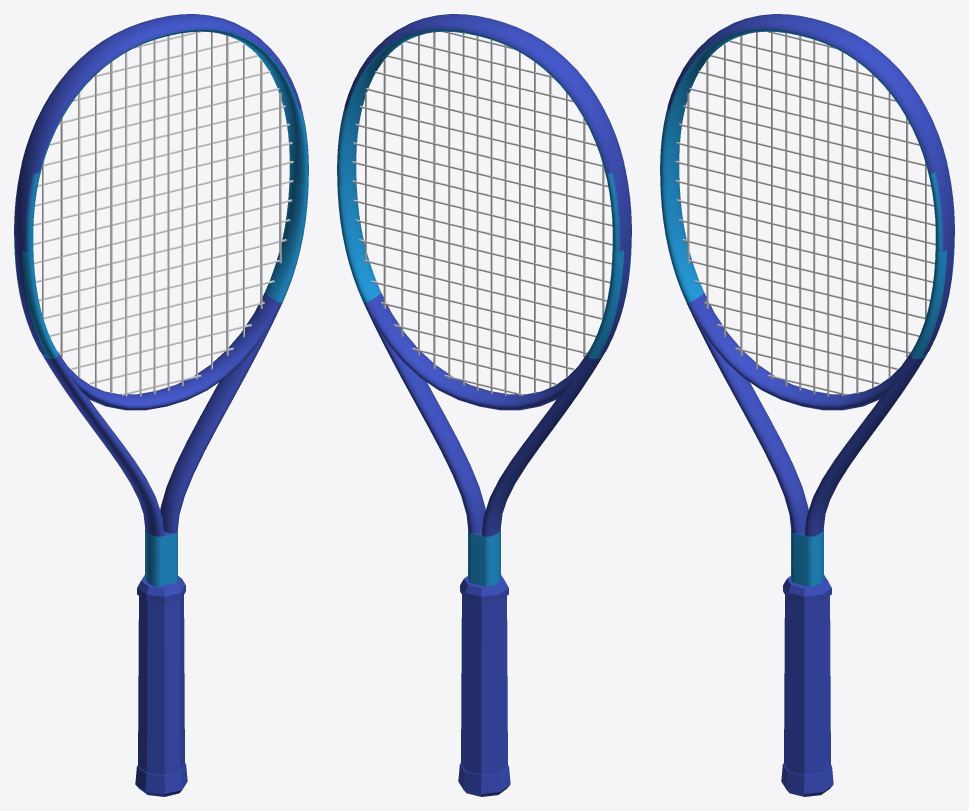
The model's file is prince-ripcord-100-265g-2025.glb.
3 views of the same model, side by side, from view 1: azimuth 30°, elevation 25°; view 2: azimuth 150°, elevation 25°; view 3: azimuth 330°, elevation 25° (orthographic).
Visible parts, largest first — view 1: frame, strings_mains, strings_crosses, grip, bumper, grommets, butt_cap, collar; view 2: frame, strings_mains, strings_crosses, grip, bumper, grommets, butt_cap, collar; view 3: frame, strings_mains, strings_crosses, grip, bumper, grommets, butt_cap, collar.
Part boxes in pixels (<box>): frame: <box>14,29,308,586</box>; strings_mains: <box>42,32,281,396</box>; strings_crosses: <box>33,31,293,395</box>; grip: <box>138,595,184,774</box>; bumper: <box>21,14,301,173</box>; grommets: <box>15,166,45,355</box>; butt_cap: <box>135,763,187,796</box>; collar: <box>137,575,185,603</box>; frame: <box>337,29,631,586</box>; strings_mains: <box>365,32,604,396</box>; strings_crosses: <box>352,31,612,395</box>; grip: <box>461,595,507,774</box>; bumper: <box>344,14,624,173</box>; grommets: <box>600,166,630,355</box>; butt_cap: <box>458,763,510,796</box>; collar: <box>460,575,508,603</box>; frame: <box>660,29,954,586</box>; strings_mains: <box>687,32,926,396</box>; strings_crosses: <box>675,31,935,395</box>; grip: <box>784,595,830,774</box>; bumper: <box>667,14,947,173</box>; grommets: <box>923,166,953,355</box>; butt_cap: <box>781,763,833,796</box>; collar: <box>783,575,831,603</box>.
Size of the model in its own units: 0.2696 by 0.6861 by 0.0396.
